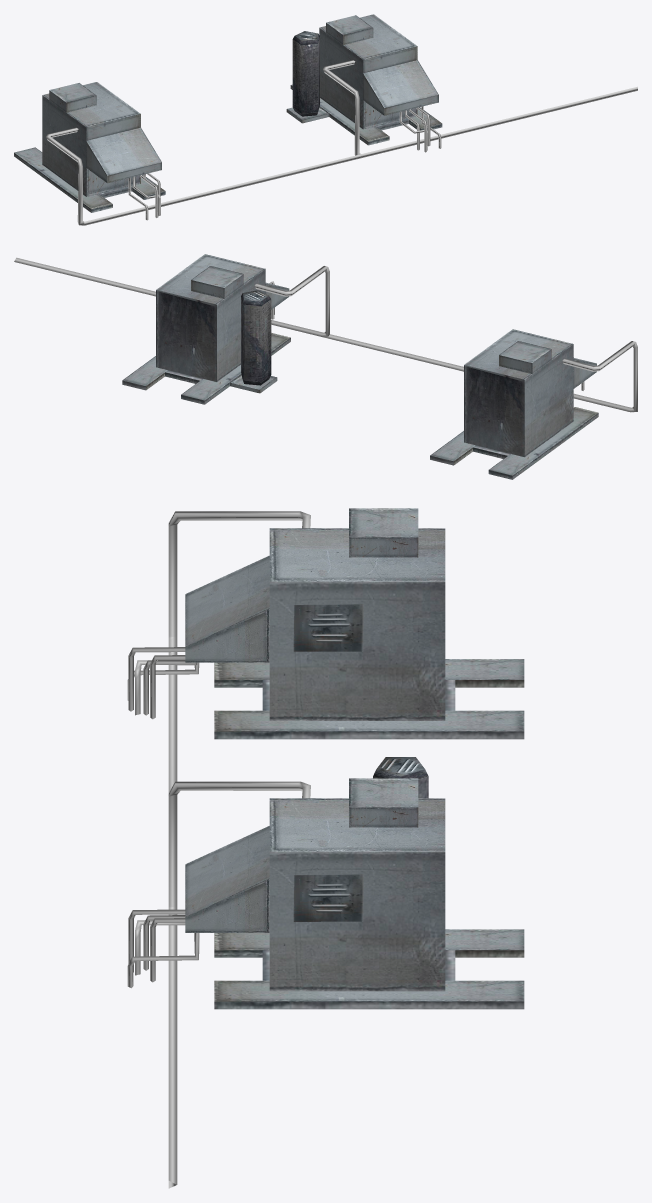
Rendered from Air_vent.fbx.
3 views of the same model, one above another, from view 1: azimuth 30°, elevation 25°; view 2: azimuth 150°, elevation 25°; view 3: azimuth 270°, elevation 25° (orthographic). The views are drawn at different scales.
Parts seen in each view (by area): view 1: Air_vent; view 2: Air_vent; view 3: Air_vent.
Boxes of the visible parts, box(x1,y1,x2,y2) form: Air_vent: box(14, 14, 637, 225); Air_vent: box(14, 254, 637, 479); Air_vent: box(127, 508, 524, 1188).
Bounding box in the file's own units: 1414 × 202 × 434.
